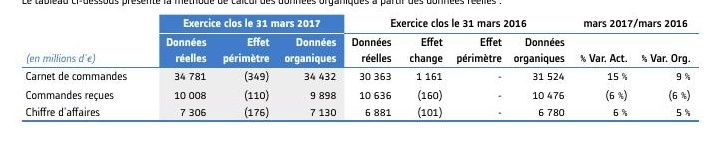table: (0, 0, 716, 147)
